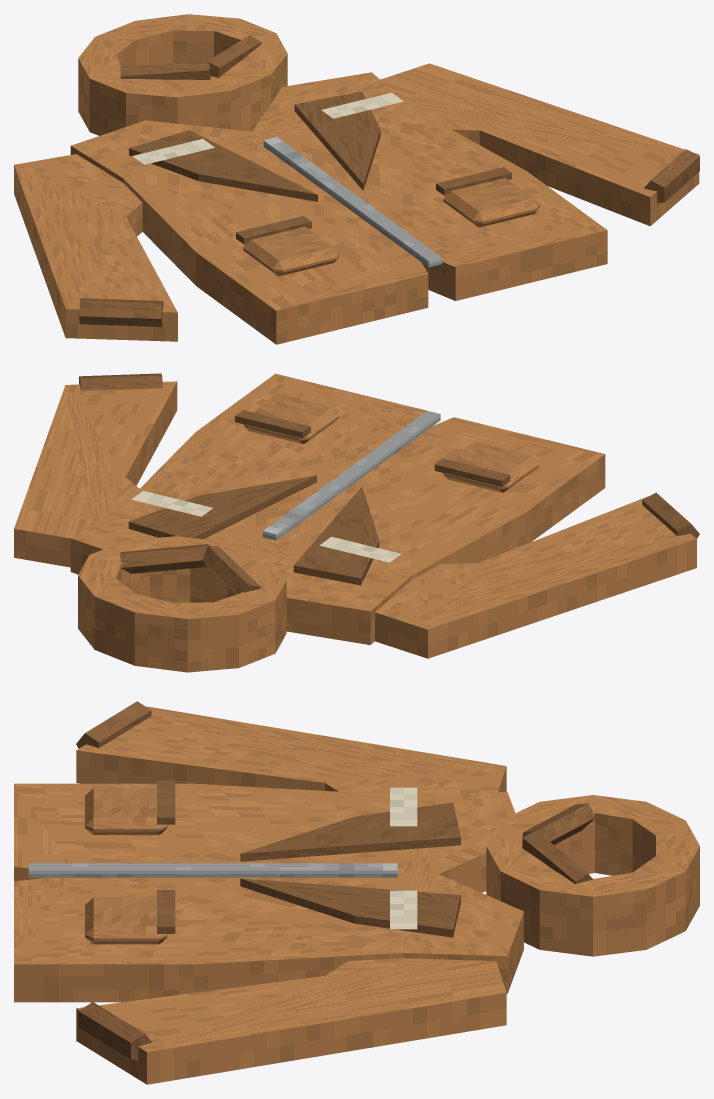
File: jacket_evac.glb
3 renders of one model, top to bottom at view 1: azimuth 30°, elevation 25°; view 2: azimuth 150°, elevation 25°; view 3: azimuth 270°, elevation 25°, orthographic. The views are drawn at different scales.
Visible parts, largest first — view 1: block_coat body, block_sleeve (×2), block_hood, block_lapel (×2), block_patch pocket (×2), block_cuff 0 (×2), block_zipper track, block_high-visibility shoulder marking (×2), block_pocket welt (×2), block_hood facing 0, block_hood facing 1; view 2: block_coat body, block_sleeve (×2), block_hood, block_lapel (×2), block_patch pocket (×2), block_zipper track, block_cuff 0 (×2), block_pocket welt (×2), block_hood facing 1, block_high-visibility shoulder marking (×2), block_hood facing 0; view 3: block_coat body, block_sleeve (×2), block_hood, block_lapel (×2), block_patch pocket (×2), block_zipper track, block_cuff 0 (×2), block_high-visibility shoulder marking (×2), block_pocket welt (×2), block_hood facing 1, block_hood facing 0.
Boxes of the visible parts, box(x1,y1,x2,y2) form: block_coat body: box(70, 72, 607, 344); block_sleeve (×2): box(14, 63, 699, 341); block_hood: box(78, 14, 287, 135); block_lapel (×2): box(129, 91, 380, 201); block_patch pocket (×2): box(243, 178, 540, 275); block_cuff 0 (×2): box(79, 149, 699, 326); block_zipper track: box(263, 137, 442, 267); block_high-visibility shoulder marking (×2): box(132, 92, 403, 164); block_pocket welt (×2): box(236, 167, 511, 244); block_hood facing 0: box(120, 60, 210, 79); block_hood facing 1: box(207, 35, 261, 77); block_coat body: box(70, 373, 605, 644); block_sleeve (×2): box(14, 381, 696, 658); block_hood: box(78, 536, 286, 672); block_lapel (×2): box(128, 475, 379, 585); block_patch pocket (×2): box(243, 394, 538, 492); block_zipper track: box(262, 410, 440, 540); block_cuff 0 (×2): box(79, 373, 699, 538); block_pocket welt (×2): box(235, 410, 510, 486); block_hood facing 1: box(120, 544, 208, 573); block_high-visibility shoulder marking (×2): box(131, 490, 401, 562); block_hood facing 0: box(202, 545, 260, 594); block_coat body: box(14, 783, 523, 1002); block_sleeve (×2): box(76, 706, 506, 1084); block_hood: box(486, 795, 699, 956); block_lapel (×2): box(240, 802, 460, 937); block_patch pocket (×2): box(85, 788, 167, 944); block_zipper track: box(28, 863, 397, 877); block_cuff 0 (×2): box(76, 701, 151, 1059); block_high-visibility shoulder marking (×2): box(390, 787, 417, 929); block_pocket welt (×2): box(157, 780, 175, 933); block_hood facing 1: box(522, 830, 592, 884); block_hood facing 0: box(522, 803, 595, 844).
Size of the model in its own units: 0.6224 by 0.0682 by 0.5219.
1 material, 1 textured.
